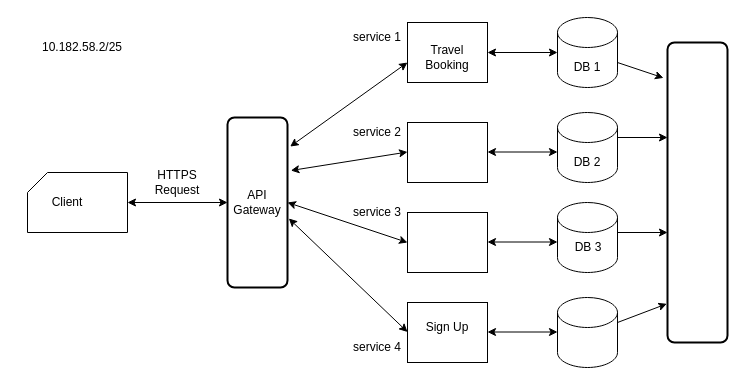
Image size: 745x385. Some labels were removed from this diagram. Each missing label, with the centre of its shape:
DB 4: point 587,332
DB Server: point 697,192
Hotel Booking: point 447,152
Payement: point 447,242
